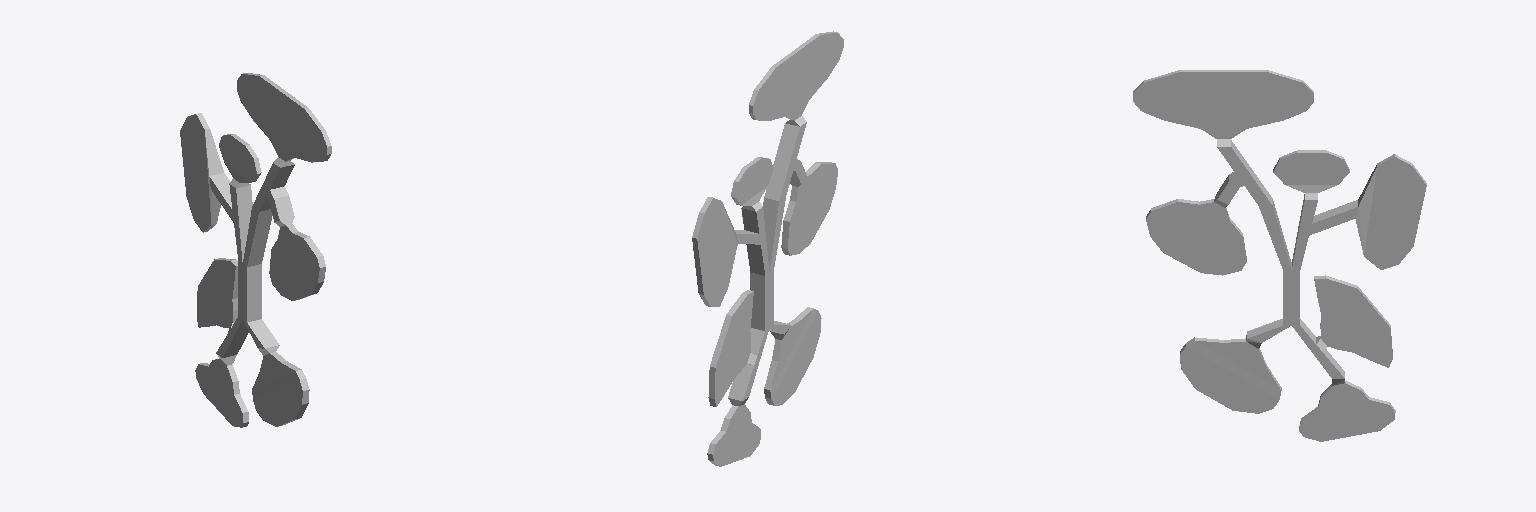
Rendered from Plant 3.1.obj.
3 views of the same model, side by side, from view 1: azimuth 30°, elevation 25°; view 2: azimuth 150°, elevation 25°; view 3: azimuth 270°, elevation 25° (orthographic).
Visible parts, largest first — view 1: Cube_Cube.001; view 2: Cube_Cube.001; view 3: Cube_Cube.001.
Part boxes in pixels (x1,y1,x2,y2): Cube_Cube.001: (180, 73, 331, 427); Cube_Cube.001: (692, 31, 843, 466); Cube_Cube.001: (1133, 70, 1426, 441).
Bounding box in the file's own units: 0.4722 × 11.12 × 8.02.